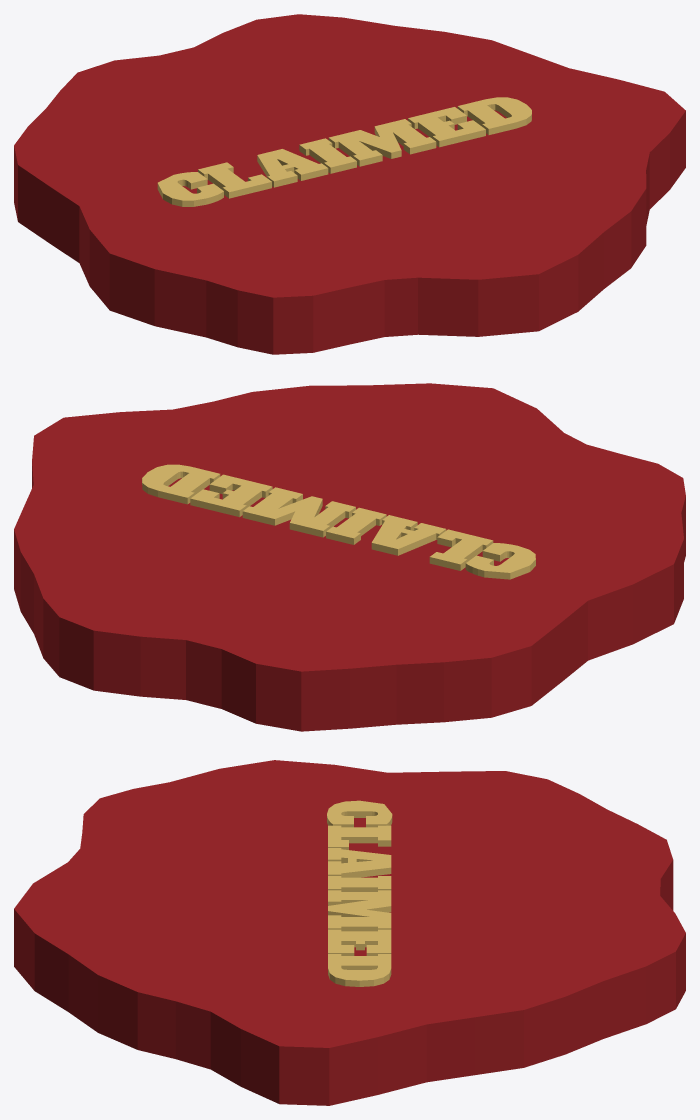
File: wax_stamp_shards.glb
3 renders of one model, top to bottom at view 1: azimuth 30°, elevation 25°; view 2: azimuth 150°, elevation 25°; view 3: azimuth 270°, elevation 25°, orthographic. The views are drawn at different scales.
Visible parts, largest first — view 1: Shard1, Shard3, Shard2, Shard0, Shard4, Shard6, Shard5; view 2: Shard4, Shard3, Shard5, Shard1, Shard0, Shard6, Shard2; view 3: Shard0, Shard6, Shard1, Shard4, Shard3, Shard5, Shard2.
Boxes of the visible parts, x1,y1,x2,y2 form: Shard1: (346,156,646,336); Shard3: (18,138,356,337); Shard2: (194,156,417,354); Shard0: (328,79,685,225); Shard4: (14,60,313,220); Shard6: (297,17,617,156); Shard5: (115,14,347,155); Shard4: (256,524,531,731); Shard3: (326,502,683,705); Shard5: (43,524,339,723); Shard1: (232,383,563,523); Shard0: (32,392,355,537); Shard6: (14,460,339,657); Shard2: (370,433,685,561); Shard0: (137,890,413,1105); Shard6: (377,904,646,1094); Shard1: (14,862,327,1049); Shard4: (374,771,672,894); Shard3: (170,760,504,891); Shard5: (391,860,685,1023); Shard2: (68,782,327,894).
Size of the model in its own units: 0.0576 by 0.006 by 0.0568.
